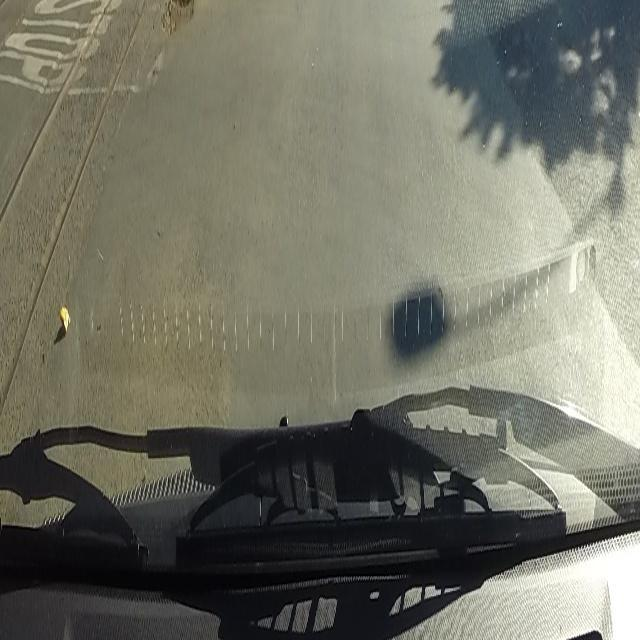pothole: (157, 0, 195, 36)
